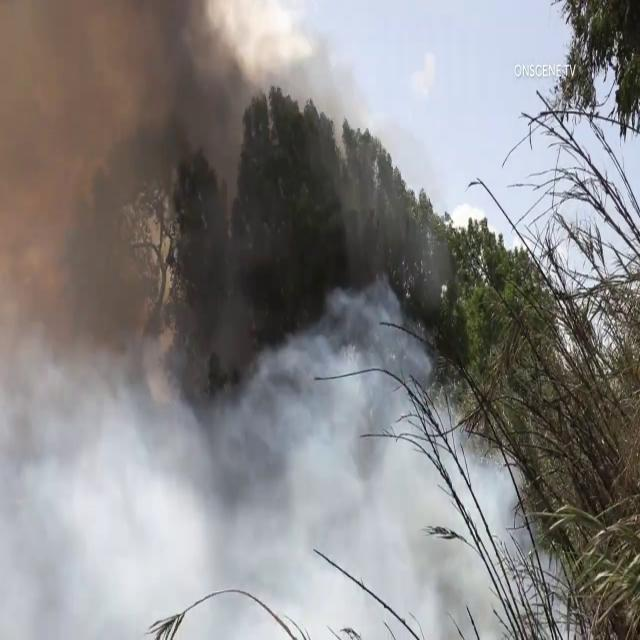Smoke: (0, 0, 272, 630), (236, 281, 558, 640)
